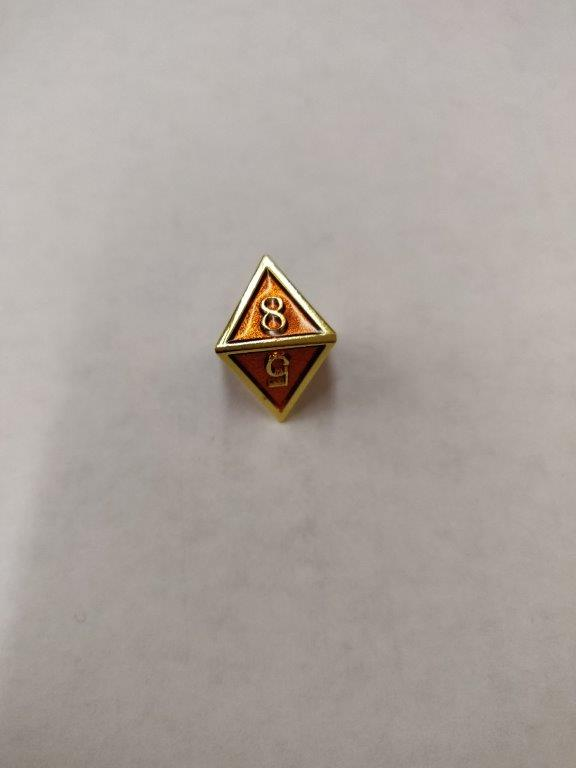d8-8: (213, 254, 337, 421)
